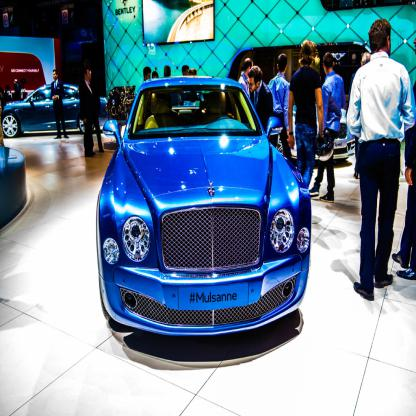Car: (96, 76, 312, 336), (0, 84, 108, 134), (276, 106, 356, 163)
